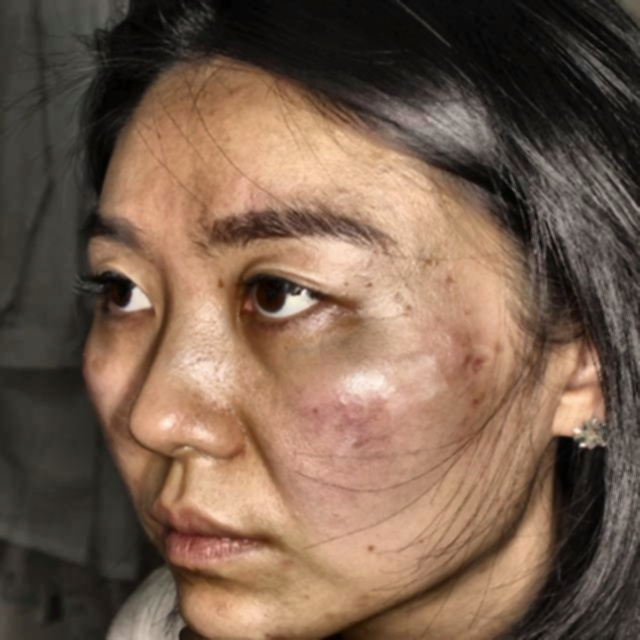comedone: (451, 327, 473, 367), (483, 332, 514, 357)
